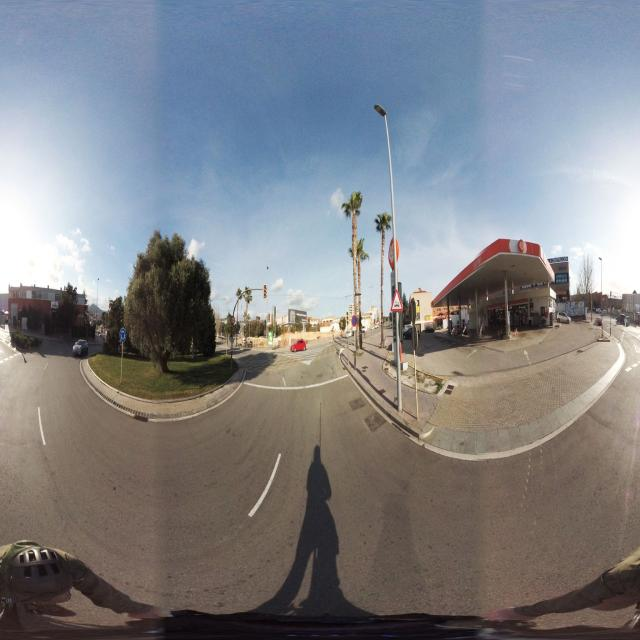forb_stopping: (351, 315, 357, 327)
